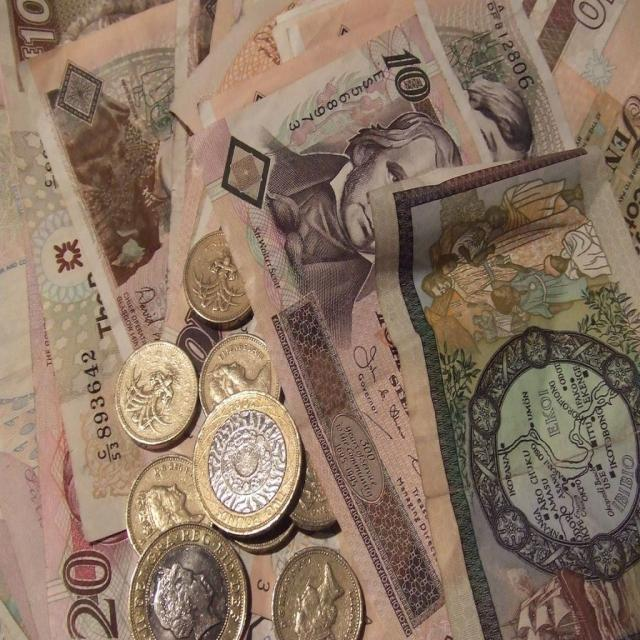Coin: (114, 340, 366, 639), (181, 228, 256, 331)
